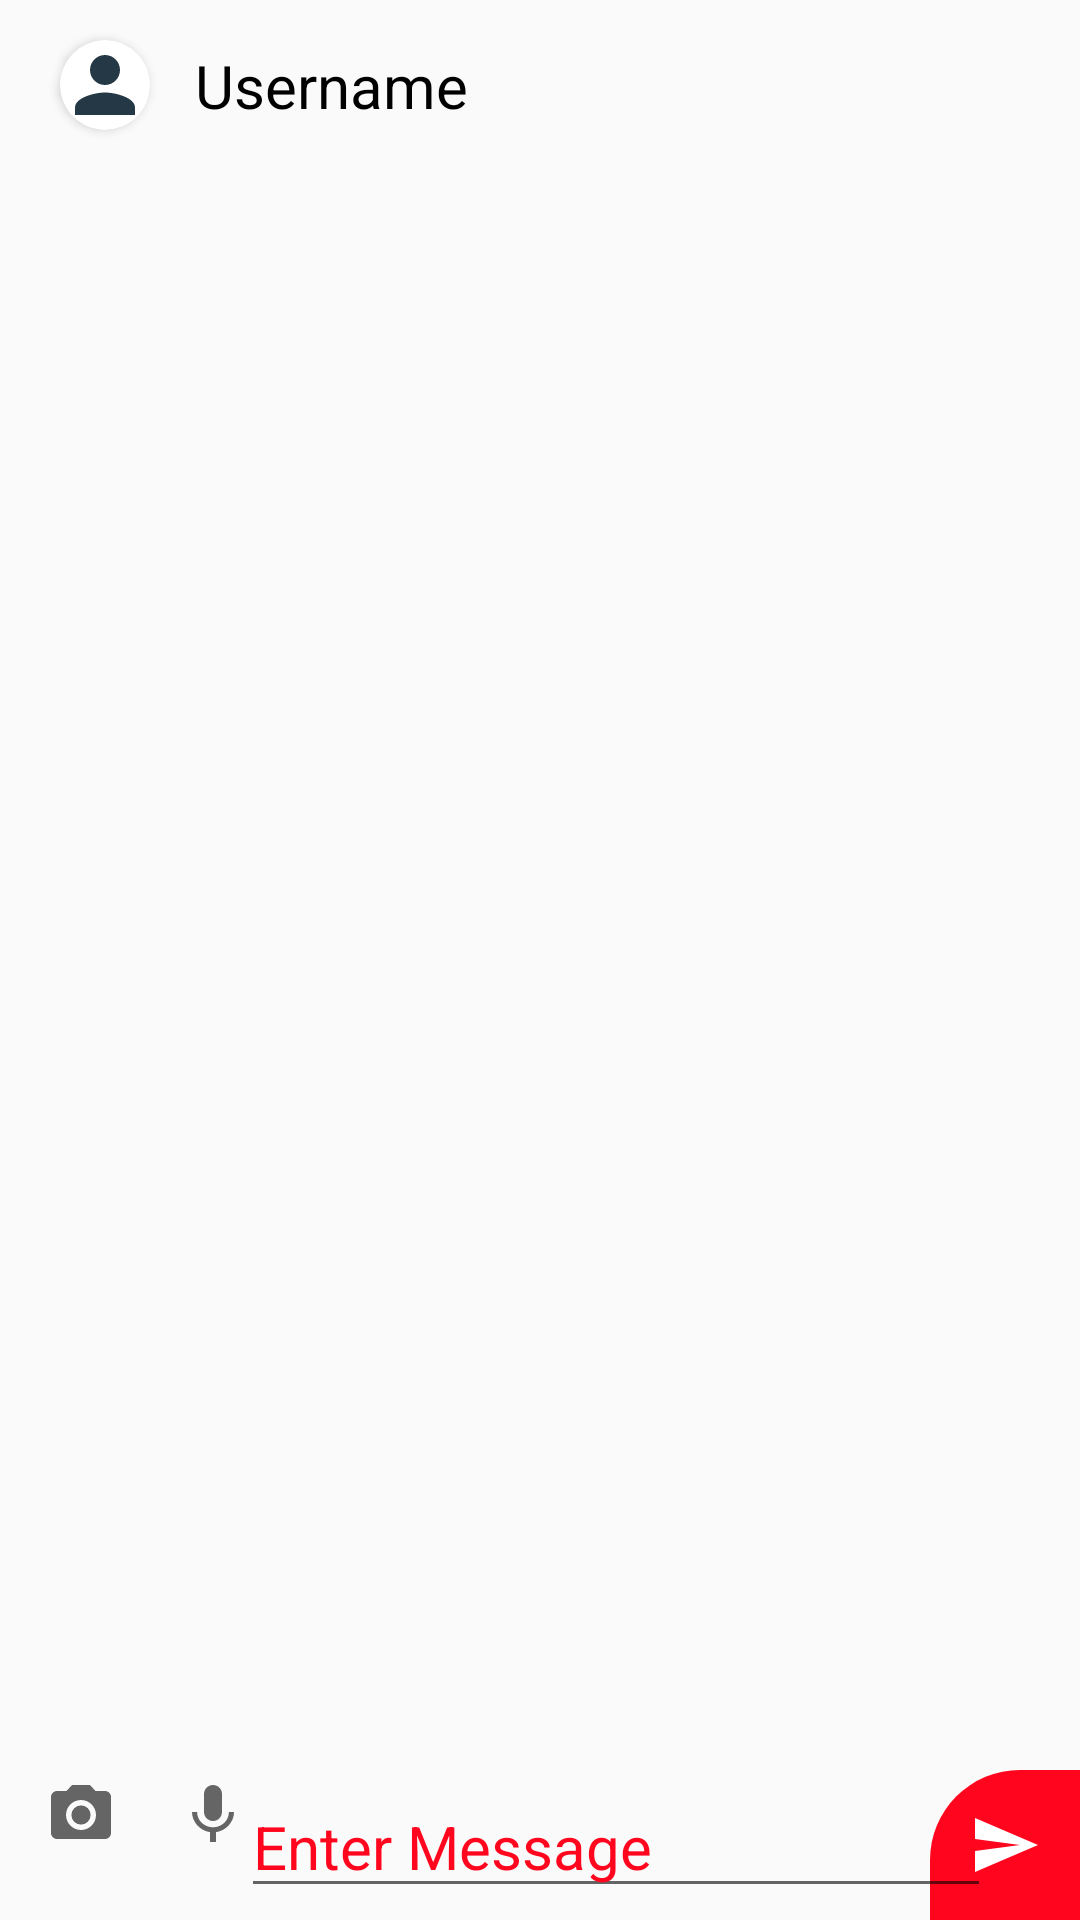

Where to tap for icons on this 1080x1920 app screen, as (x=x, y=y):
camera: (x=81, y=1812)
mic: (x=213, y=1813)
person: (x=105, y=85)
send: (x=1005, y=1845)
